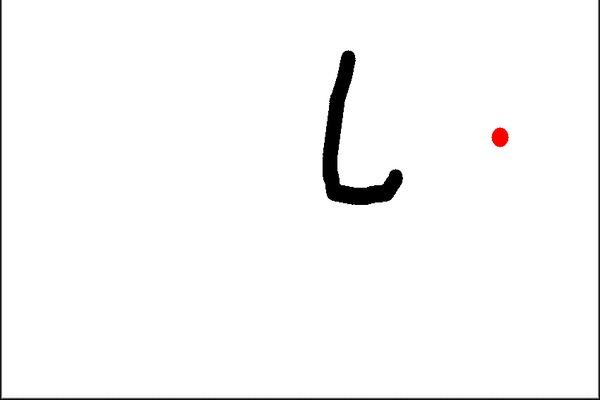L: (309, 40, 412, 211)
